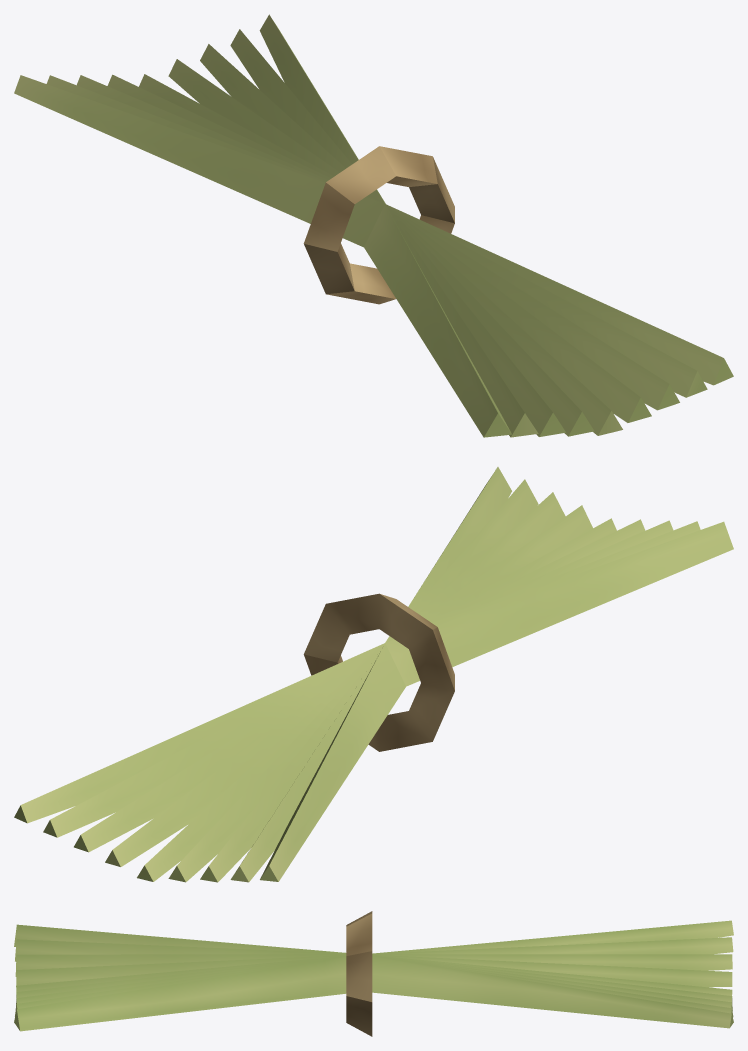
The model's file is SM_Pickup_Fiber.fbx.
3 renders of one model, top to bottom at view 1: azimuth 30°, elevation 25°; view 2: azimuth 150°, elevation 25°; view 3: azimuth 270°, elevation 25°, orthographic. The views are drawn at different scales.
Parts seen in each view (by area): view 1: SM_Pickup_Fiber; view 2: SM_Pickup_Fiber; view 3: SM_Pickup_Fiber.
Part boxes in pixels (x1=…): SM_Pickup_Fiber: x1=14, y1=14, x2=733, y2=437; SM_Pickup_Fiber: x1=14, y1=467, x2=733, y2=882; SM_Pickup_Fiber: x1=14, y1=911, x2=733, y2=1036.
Size of the model in its own units: 0.5411 by 0.3093 by 1.66.
1 material, 1 textured.
